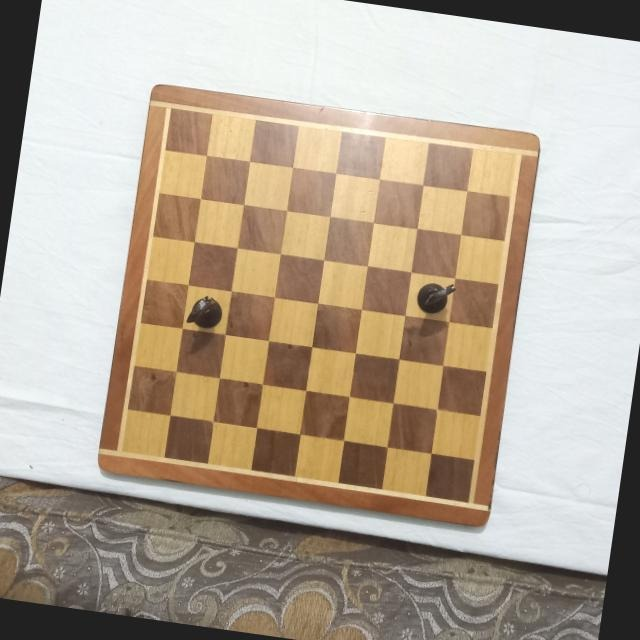black-knight: (185, 293, 226, 334), (417, 278, 459, 317)
